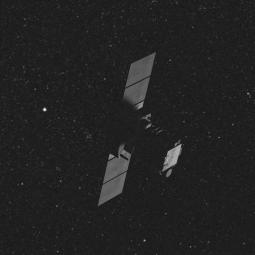soho: (81, 57, 179, 205)
